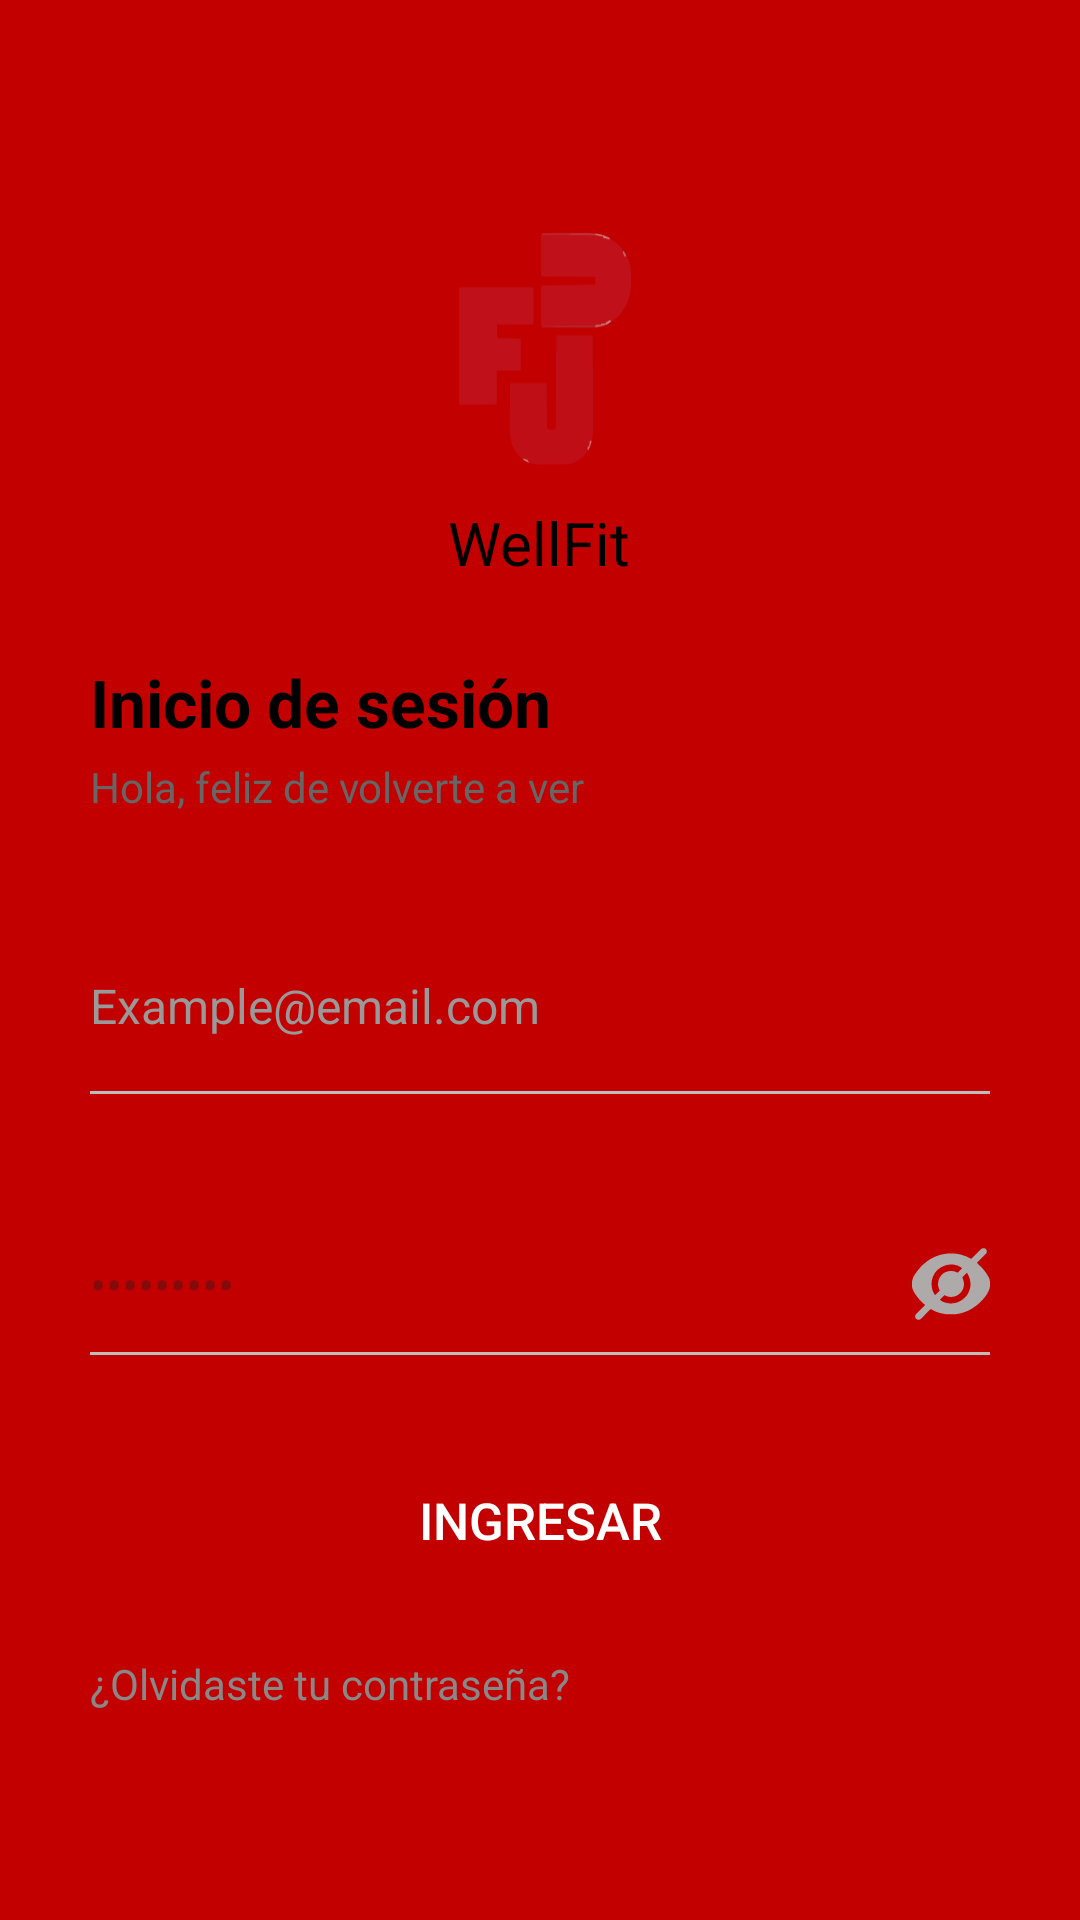

Icons on this 1080*1920 Android screen, each with its box as (x1, y1, x2, y2):
eye closed: (912, 1248, 990, 1320)
